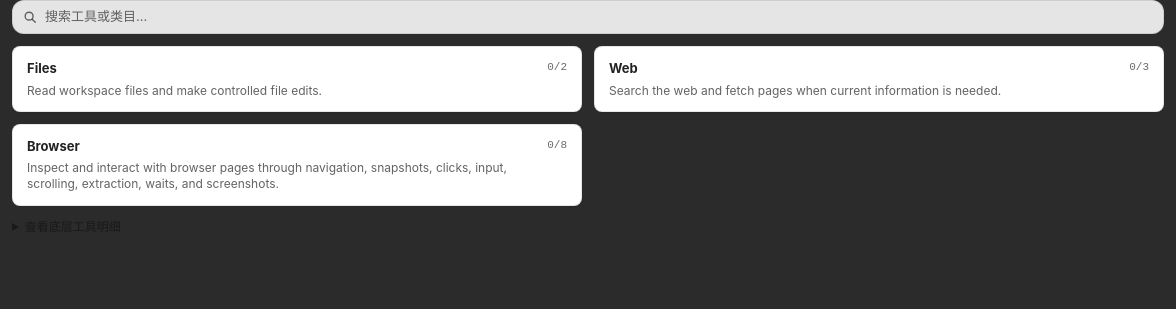
Scenario: ToolGroupSelector — round 17 filter › clearing the filter restores the full catalog
Type "web" into the search field labelled "搜索工具" at (599, 17), box [45,7,1153,27]
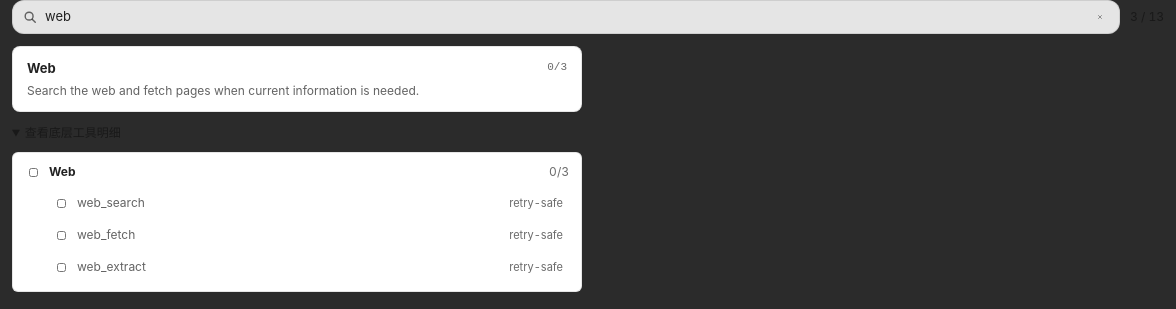
Result: the number of buttons with class "tool-capability" is 1 at [12,46,582,112]
Clear the search field named "搜索工具" at (564, 17), box [45,7,1083,27]
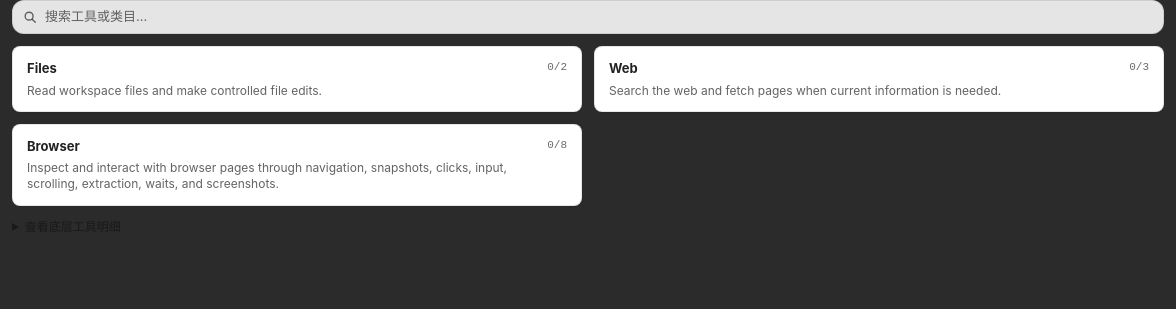
Result: the number of buttons with class "tool-capability" is 3 at [12,46,582,112]; [594,46,1164,112]; [12,124,582,206]
